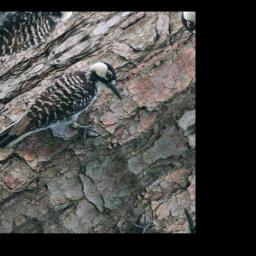Woodpecker: (0, 47, 141, 195)
